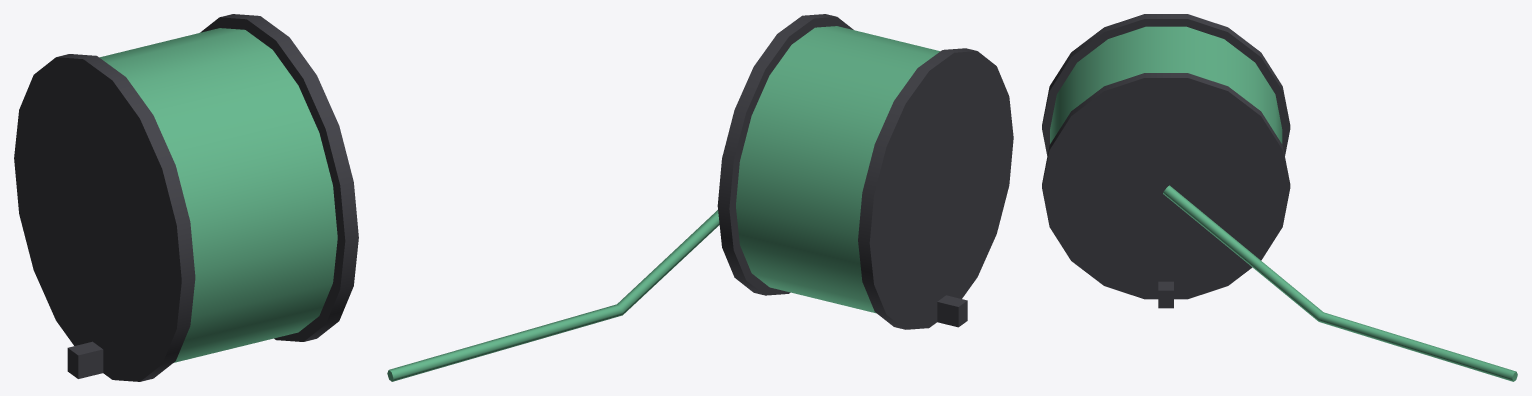
File: hose_reel.glb
3 views of the same model, side by side, from view 1: azimuth 30°, elevation 25°; view 2: azimuth 150°, elevation 25°; view 3: azimuth 270°, elevation 25° (orthographic). The views are drawn at different scales.
Visible parts, largest first — view 1: hose_reel; view 2: hose_reel; view 3: hose_reel.
Boxes of the visible parts, x1,y1,x2,y2 form: hose_reel: [14, 14, 358, 381]; hose_reel: [387, 14, 1013, 381]; hose_reel: [1042, 14, 1517, 381].
Size of the model in its own units: 0.962 by 0.6303 by 1.23.
